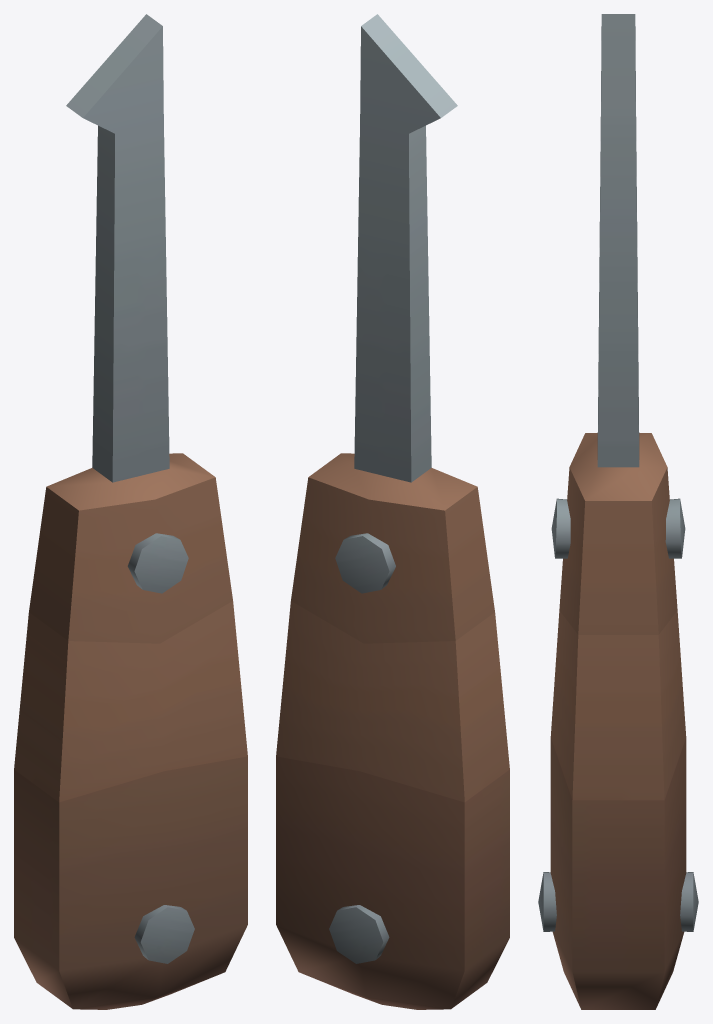
Rendered from lockpick_b.glb.
3 renders of one model, left to right at view 1: azimuth 30°, elevation 25°; view 2: azimuth 150°, elevation 25°; view 3: azimuth 270°, elevation 25°, orthographic.
Visible parts, largest first — view 1: lockpick_B; view 2: lockpick_B; view 3: lockpick_B.
Boxes of the visible parts, box(x1,y1,x2,y2) form: lockpick_B: box(14, 14, 247, 1009); lockpick_B: box(276, 14, 509, 1009); lockpick_B: box(538, 14, 698, 1009).
Size of the model in its own units: 0.1513 by 0.746 by 0.1093.
Materials: 1 (1 with a texture image).
